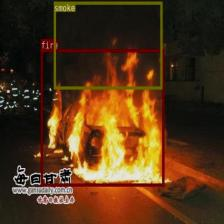fire: (40, 48, 164, 186)
smoke: (54, 1, 162, 89)
